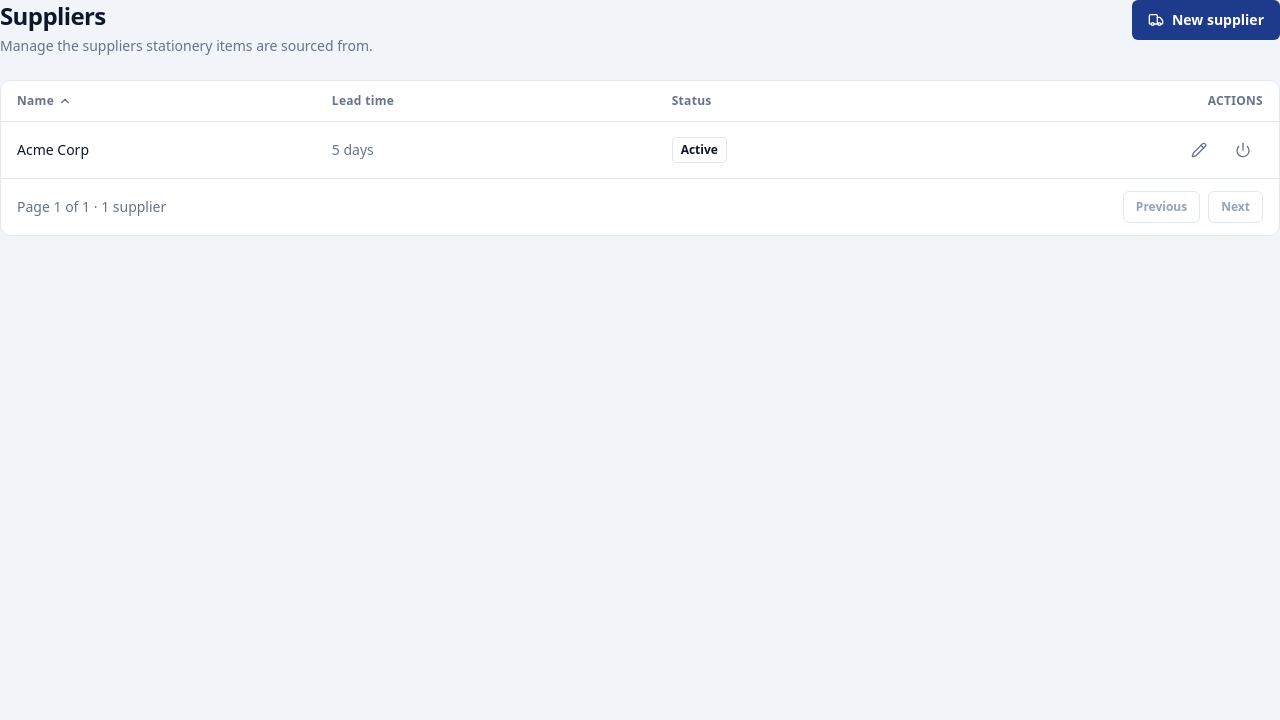
Test: SupplierManagement › renders a populated table and surfaces a 409 on deactivate
The width and height of the screenshot is (1280, 720).
Expected: the text "Acme Corp" is shown, x1=1 y1=122 x2=316 y2=178
Click the button named "deactivate acme corp": point(1243, 150) x1=1223 y1=134 x2=1263 y2=166
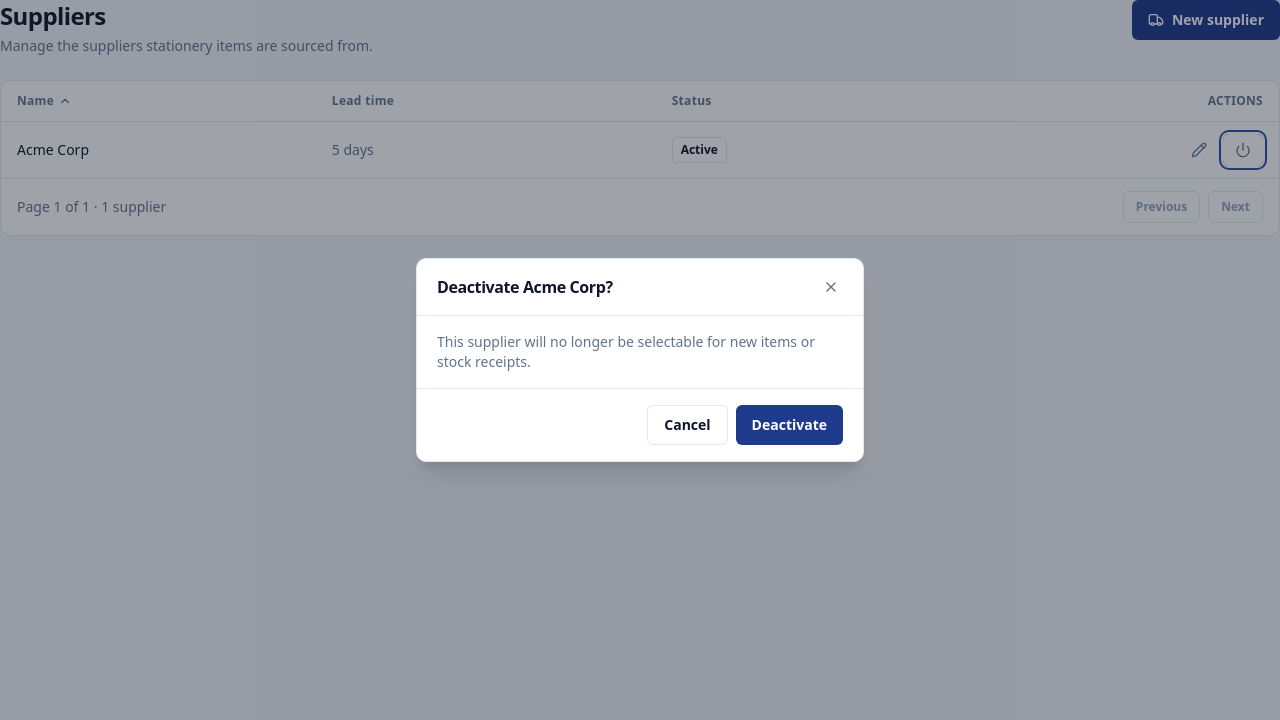
Click the button "Deactivate": point(789, 425) x1=736 y1=405 x2=843 y2=445
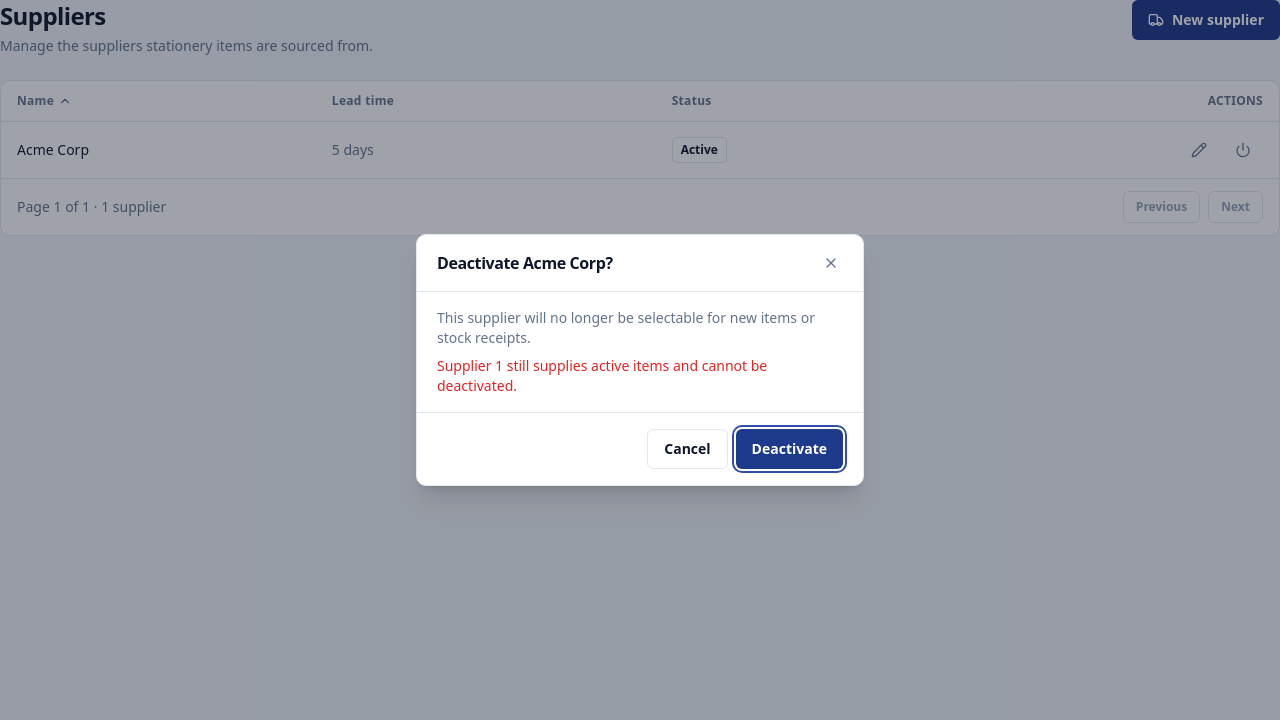
Expected: the text "Supplier 1 still supplies active items and cannot be deactivated." is shown, x1=437 y1=356 x2=767 y2=395
